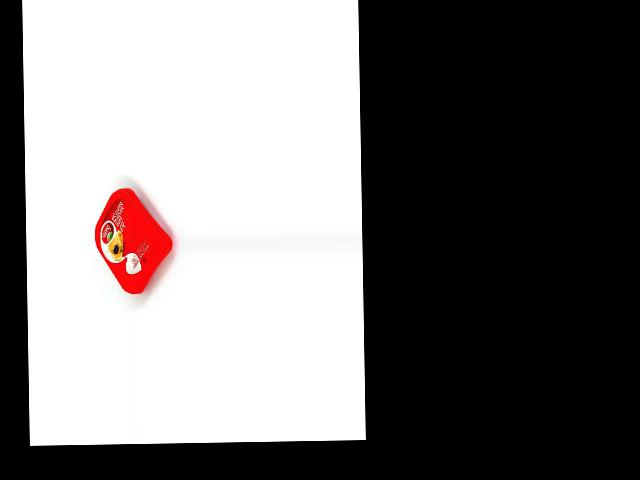cheese: (93, 187, 173, 295)
